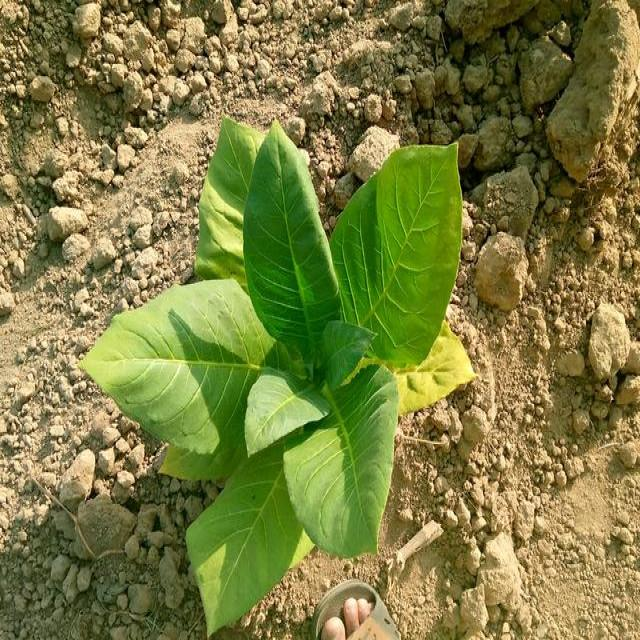crop: (110, 106, 470, 634)
